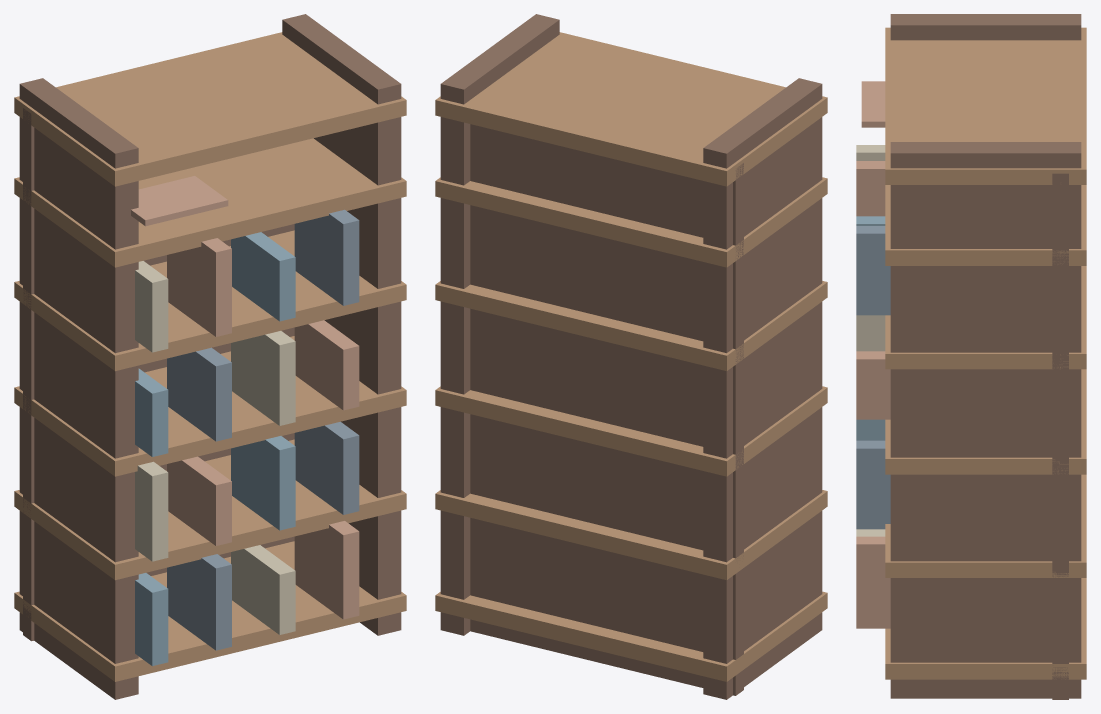
Rendered from bookshelf-low.gltf.
The picture shows the model from 3 angles, left to right: view 1: azimuth 30°, elevation 25°; view 2: azimuth 150°, elevation 25°; view 3: azimuth 270°, elevation 25°; orthographic projection.
Parts seen in each view (by area): view 1: Shelf board (×6), Shelf upright (×2), Shelf back panel, Technical book 0-9, Technical book 3-3, Technical book 3-9, Technical book 0-3, Technical book 2-6, Technical book 1-6, Technical book 1-9, Technical book 2-3, Technical book 2-9 (+8 smaller); view 2: Shelf back panel, Shelf board (×6), Shelf upright (×2); view 3: Shelf upright (×2), Shelf board (×6), Shelf back panel, Technical book 0-9, Technical book 3-9, Technical book 1-9, Technical book 2-9, Technical book 3-3, Horizontal notes, Technical book 2-6, Technical book 1-6, Technical book 3-0.
Boxes of the visible parts, x1,y1,x2,y2 form: Shelf board (×6): [14, 32, 406, 681]; Shelf upright (×2): [19, 14, 401, 699]; Shelf back panel: [23, 108, 294, 641]; Technical book 0-9: [294, 521, 359, 619]; Technical book 3-3: [167, 238, 231, 336]; Technical book 3-9: [294, 209, 359, 305]; Technical book 0-3: [167, 554, 231, 650]; Technical book 2-6: [231, 331, 295, 425]; Technical book 1-6: [231, 436, 295, 530]; Technical book 1-9: [294, 421, 359, 514]; Technical book 2-3: [167, 347, 231, 441]; Technical book 2-9: [294, 320, 359, 410]; Shelf back panel: [470, 124, 743, 695]; Shelf board (×6): [435, 32, 827, 681]; Shelf upright (×2): [440, 14, 822, 699]; Shelf upright (×2): [890, 14, 1081, 698]; Shelf board (×6): [885, 27, 1086, 679]; Shelf back panel: [1052, 173, 1068, 699]; Technical book 0-9: [856, 536, 890, 628]; Technical book 3-9: [856, 226, 890, 315]; Technical book 1-9: [856, 440, 890, 523]; Technical book 2-9: [856, 351, 890, 419]; Technical book 3-3: [856, 161, 885, 216]; Horizontal notes: [861, 81, 885, 127]; Technical book 2-6: [856, 315, 885, 351]; Technical book 1-6: [856, 419, 885, 440]; Technical book 3-0: [856, 145, 885, 160].
Size of the model in its own units: 1.62 by 2.9 by 1.11.
